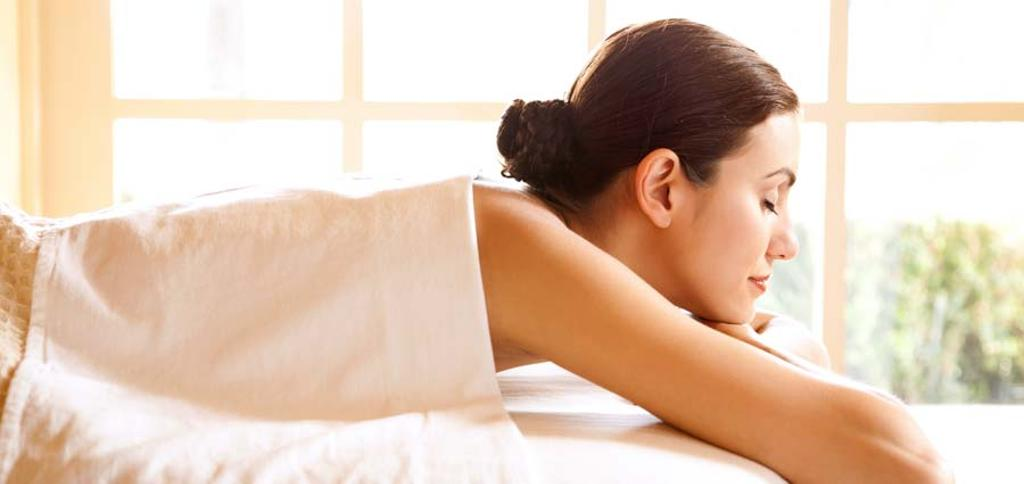face: (688, 92, 800, 322)
